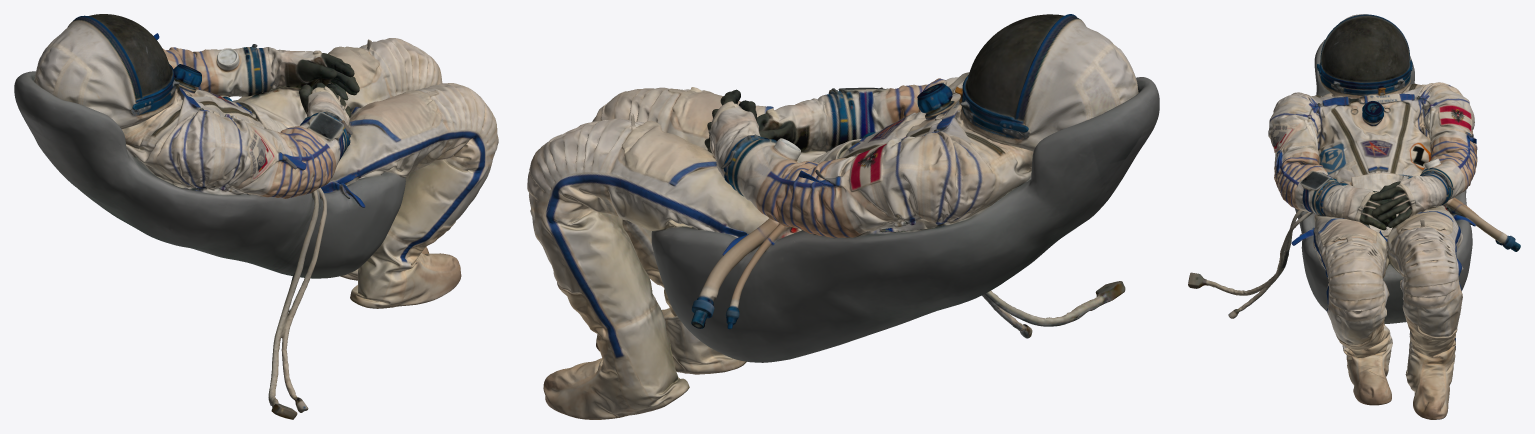
File: franz_viehbocks_sokol_space_suit.glb
3 renders of one model, left to right at view 1: azimuth 30°, elevation 25°; view 2: azimuth 150°, elevation 25°; view 3: azimuth 270°, elevation 25°, orthographic. The views are drawn at different scales.
Size of the model in its own units: 1.69 by 1.28 by 1.42.
Materials: 1 (1 with a texture image).
